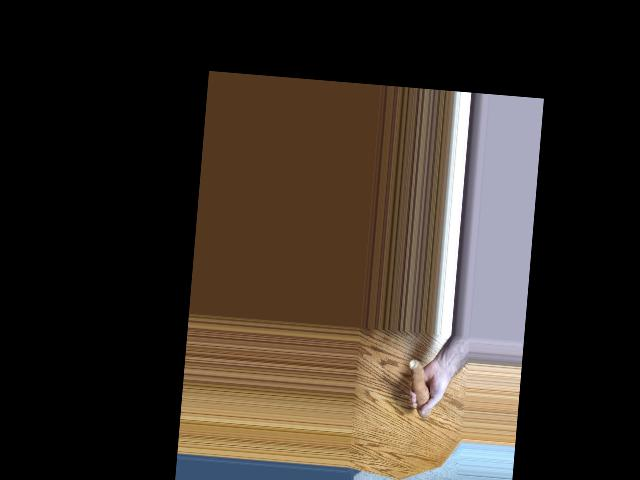sweet_potato: (405, 355, 434, 421)
